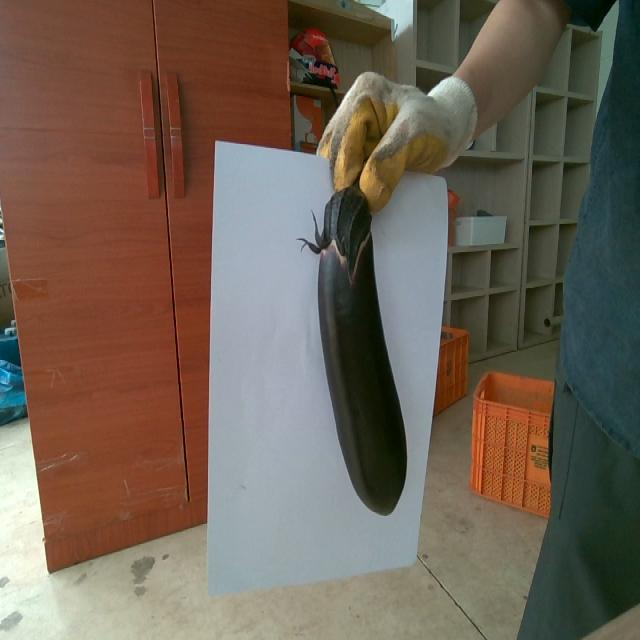Egg plant: (318, 187, 406, 513), (347, 217, 367, 263)
